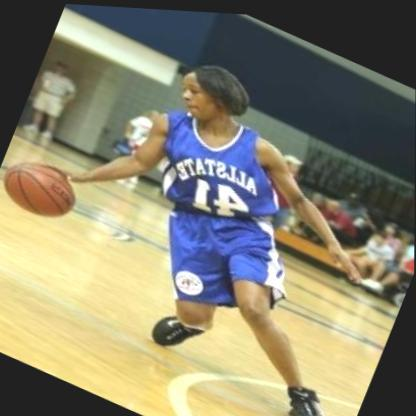basketball: (0, 148, 83, 228)
